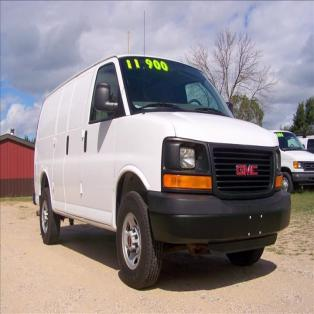Auto: (32, 52, 294, 291)
